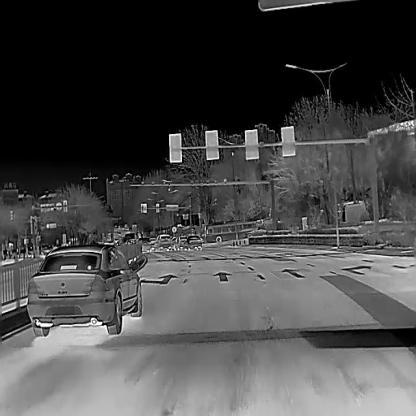car: (26, 244, 142, 335), (205, 221, 256, 242), (154, 233, 172, 251), (184, 234, 202, 249), (172, 234, 187, 249)
